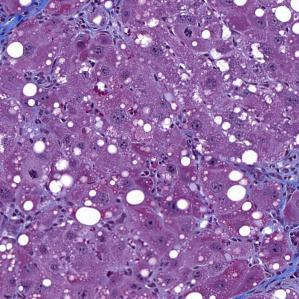fibrosis: (258, 165, 299, 295), (4, 3, 47, 49)
